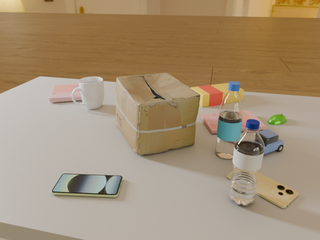book: (201, 111, 266, 133), (50, 84, 82, 103)
bottle: (228, 119, 265, 206), (215, 82, 243, 159)
box: (116, 73, 201, 155), (191, 83, 244, 107)
cup: (71, 77, 104, 109)
mouse: (268, 114, 287, 125)
phone: (227, 171, 298, 208), (51, 174, 123, 197)
toy_car: (258, 129, 284, 154)
